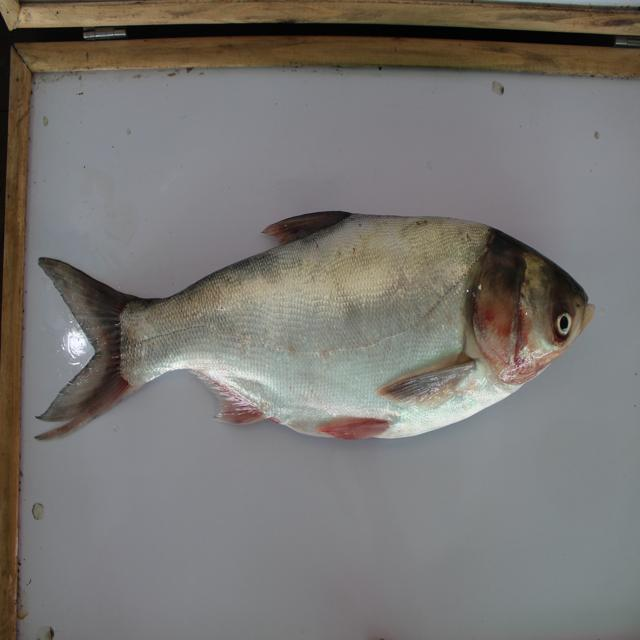SilverCarp: (10, 169, 638, 517)
